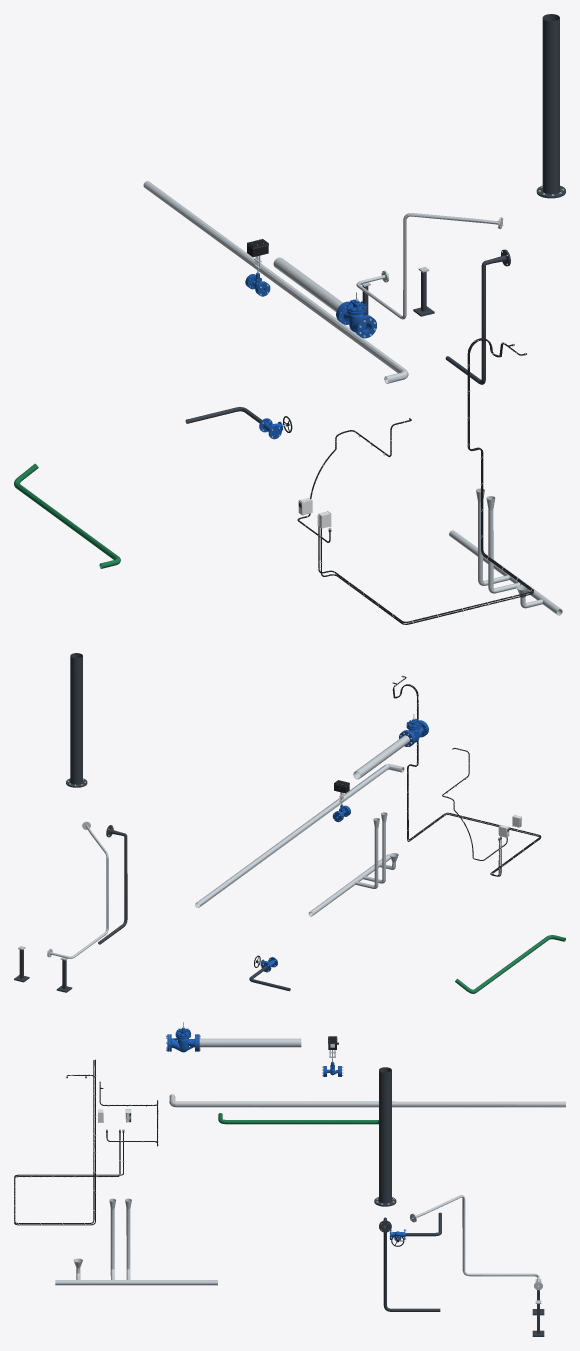
File: s4000-5-Dsu-yIMH.glb
3 renders of one model, top to bottom at view 1: azimuth 30°, elevation 25°; view 2: azimuth 150°, elevation 25°; view 3: azimuth 270°, elevation 25°, orthographic. The views are drawn at different scales.
Visible parts, largest first — view 1: bdv_vent / dark, safety_vent_2 / steel, local_open_drains / steel, trap_gap_to_bdv / steel, wiring_pressure_switch_2 / black, deaerator_feed / green, wiring_pressure_switch_1 / black, bottom_to_bdv / dark, steam_delivery / steel; view 2: bdv_vent / dark, safety_vent_2 / steel, local_open_drains / steel, trap_gap_to_bdv / steel, deaerator_feed / green, wiring_pressure_switch_1 / black, steam_delivery / steel, bottom_to_bdv / dark, wiring_pressure_switch_2 / black; view 3: safety_vent_2 / steel, local_open_drains / steel, bdv_vent / dark, steam_delivery / steel, trap_gap_to_bdv / steel, deaerator_feed / green, wiring_pressure_switch_2 / black, bottom_to_bdv / dark, wiring_pressure_switch_1 / black, gpz CAD solid 0.
Part boxes in pixels (x1,y1,x2,y2): bdv_vent / dark: (536,14,565,198); safety_vent_2 / steel: (143,181,408,383); local_open_drains / steel: (449,488,562,615); trap_gap_to_bdv / steel: (356,213,503,319); wiring_pressure_switch_2 / black: (318,339,533,622); deaerator_feed / green: (14,463,120,568); wiring_pressure_switch_1 / black: (320,338,533,624); bottom_to_bdv / dark: (445,249,510,384); steam_delivery / steel: (273,257,342,311); bdv_vent / dark: (66,653,87,787); safety_vent_2 / steel: (195,764,404,907); local_open_drains / steel: (308,812,398,916); trap_gap_to_bdv / steel: (47,821,108,958); deaerator_feed / green: (455,935,565,993); wiring_pressure_switch_1 / black: (392,676,541,876); steam_delivery / steel: (353,735,409,779); bottom_to_bdv / dark: (98,825,127,944); wiring_pressure_switch_2 / black: (393,683,541,876); safety_vent_2 / steel: (169,1094,565,1107); local_open_drains / steel: (55,1198,217,1285); bdv_vent / dark: (374,1067,396,1206); steam_delivery / steel: (199,1038,301,1047); trap_gap_to_bdv / steel: (410,1195,542,1290); deaerator_feed / green: (218,1113,378,1124); wiring_pressure_switch_2 / black: (14,1060,123,1223); bottom_to_bdv / dark: (379,1217,440,1311); wiring_pressure_switch_1 / black: (14,1059,120,1225); gpz CAD solid 0: (169,1022,196,1052).
Size of the model in its own units: 6.36 by 4.11 by 7.03.
